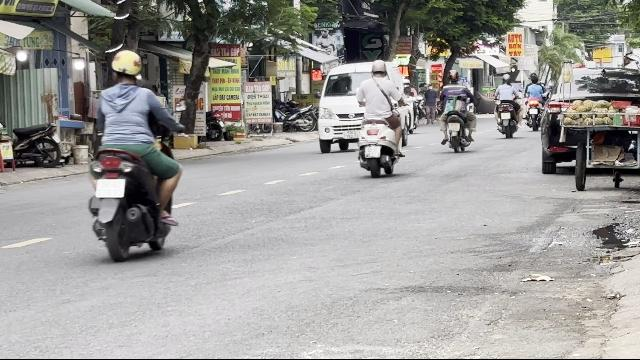helmet: (110, 50, 142, 84), (369, 60, 386, 76)
licenseplate: (96, 178, 124, 198), (364, 146, 380, 158)
motorcyclist: (82, 48, 185, 260), (353, 58, 405, 178)
